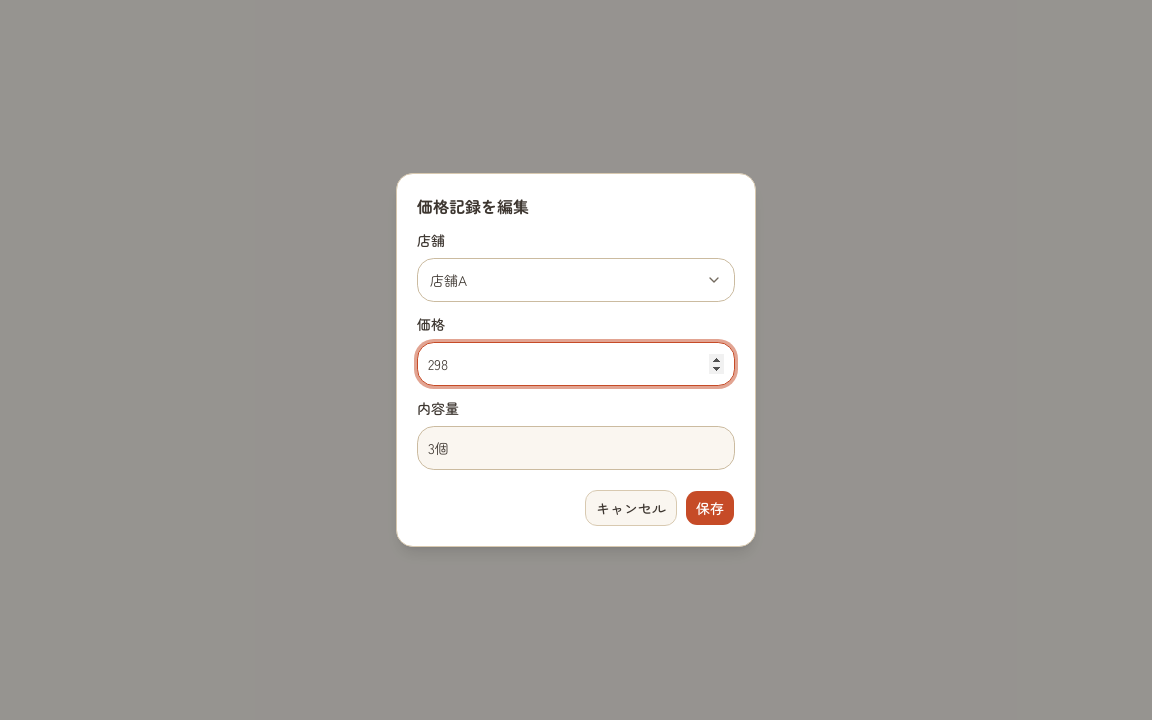
PriceRecordEditDialog › PRED-07: サーバーが 400 を返した場合はエラーメッセージを表示する（E-04）
Expected: the text "店舗A" is shown, x1=430 y1=270 x2=467 y2=290
Click the button "保存".
click(710, 508)  # box x1=685 y1=490 x2=735 y2=526
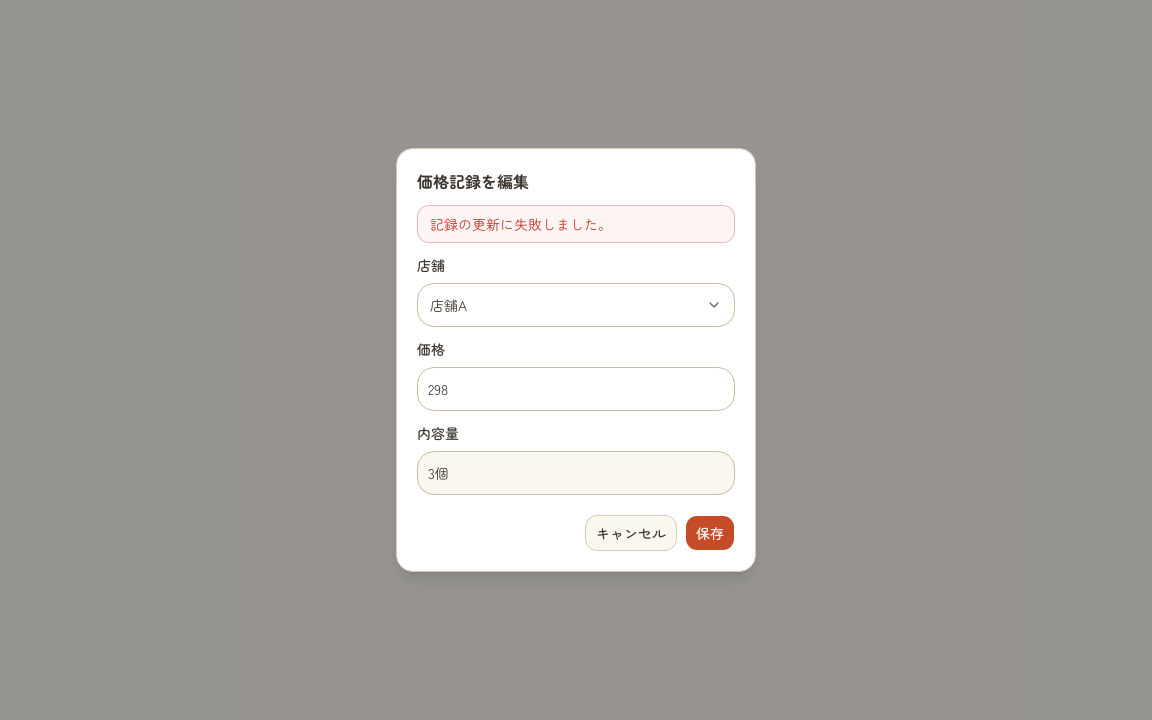
Now the text "記録の更新に失敗しました。" is shown, box x1=417 y1=205 x2=735 y2=243
